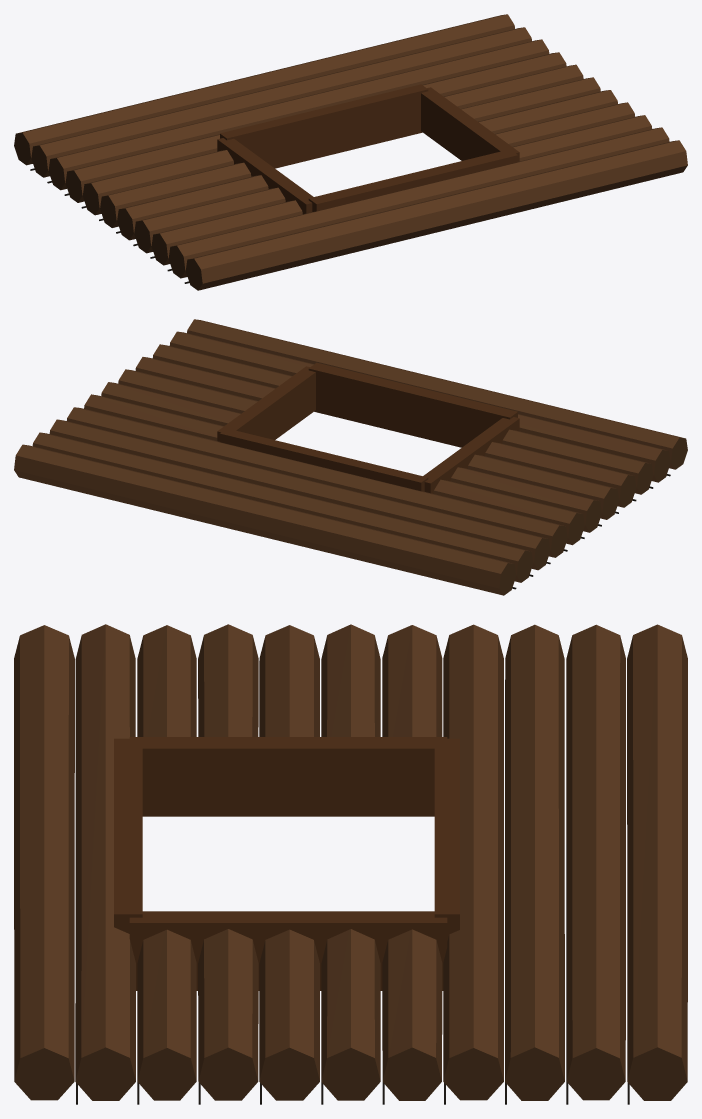
File: SM_Izba_WallWindow_1348_LOD1.obj
3 renders of one model, top to bottom at view 1: azimuth 30°, elevation 25°; view 2: azimuth 150°, elevation 25°; view 3: azimuth 270°, elevation 25°, orthographic. The views are drawn at different scales.
Visible parts, largest first — view 1: log_course_10, log_course_0, deep_window_sill, log_course_9, log_course_1, log_course_2, cutout_window_jamb, log_course_3, log_course_7, log_course_4, log_course_5, log_course_6 (+3 smaller); view 2: log_course_0, lintel, log_course_2, log_course_3, log_course_1, log_course_10, cutout_window_jamb, log_course_9, log_course_4, log_course_7, log_course_6, log_course_5 (+3 smaller); view 3: cutout_window_jamb, sawn_end, log_course_10, log_course_0, log_course_1, log_course_2, log_course_3, log_course_9, log_course_7, log_course_6, log_course_4, log_course_5 (+4 smaller).
Part boxes in pixels (x1,y1,x2,y2): log_course_10: (189,140,687,290); log_course_0: (16,14,514,165); deep_window_sill: (220,84,428,168); log_course_9: (171,127,669,278); log_course_1: (34,27,531,177); log_course_2: (52,39,549,189); cutout_window_jamb: (217,87,519,214); log_course_3: (68,52,566,202); log_course_7: (138,102,634,253); log_course_4: (86,64,583,215); log_course_5: (105,77,600,227); log_course_6: (121,90,617,240); log_course_0: (14,444,512,595); lintel: (308,362,517,447); log_course_2: (49,419,547,570); log_course_3: (67,407,565,557); log_course_1: (32,432,529,582); log_course_10: (187,319,684,469); cutout_window_jamb: (217,366,519,493); log_course_9: (169,331,666,482); log_course_4: (84,394,581,544); log_course_7: (135,357,632,507); log_course_6: (118,369,615,519); log_course_5: (101,382,598,532); cutout_window_jamb: (129,737,447,990); sawn_end: (14,1047,687,1100); log_course_10: (14,625,74,1080); log_course_0: (627,624,687,1080); log_course_1: (566,624,625,1080); log_course_2: (505,624,564,1080); log_course_3: (443,624,503,1080); log_course_9: (75,624,135,1081); log_course_7: (198,624,258,1081); log_course_6: (259,625,319,1080); log_course_4: (382,625,442,1080); log_course_5: (321,624,380,1080).
Bounding box in the file's own units: 4 × 0.33 × 2.69.
